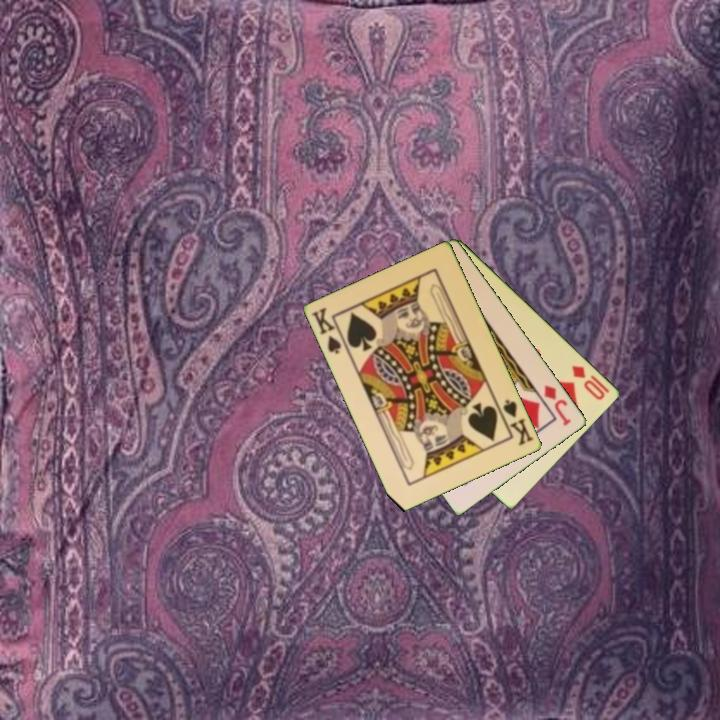10d: (569, 362, 613, 403)
Jd: (541, 381, 575, 429)
Ks: (495, 396, 537, 449), (309, 304, 350, 357)
